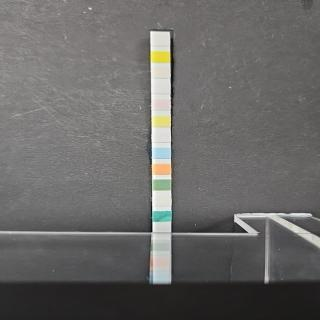mark: (153, 114, 171, 128), (151, 34, 170, 47), (151, 51, 170, 64), (151, 66, 170, 79), (151, 82, 169, 95), (153, 163, 171, 176), (152, 178, 170, 191), (152, 98, 170, 110), (152, 131, 170, 143), (153, 147, 171, 159), (152, 211, 171, 222), (153, 196, 171, 207)
